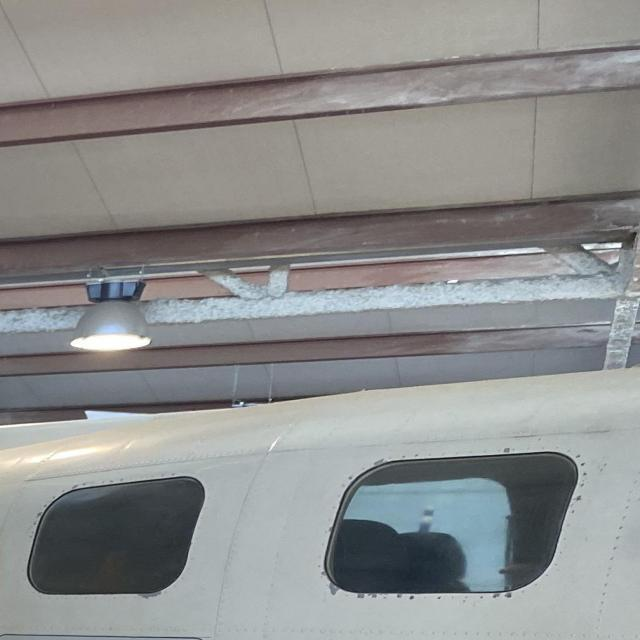Paint-off: (137, 590, 162, 600), (328, 582, 341, 595), (374, 459, 387, 466), (503, 448, 512, 452)
